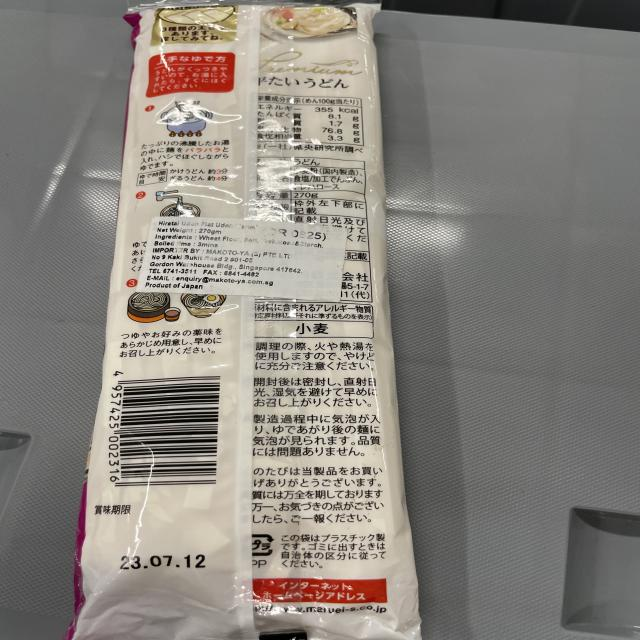object_name: (120, 8, 406, 640)
